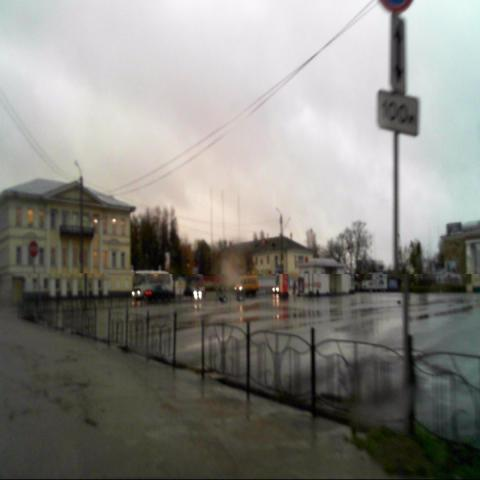8_1_1: (376, 89, 420, 137)
